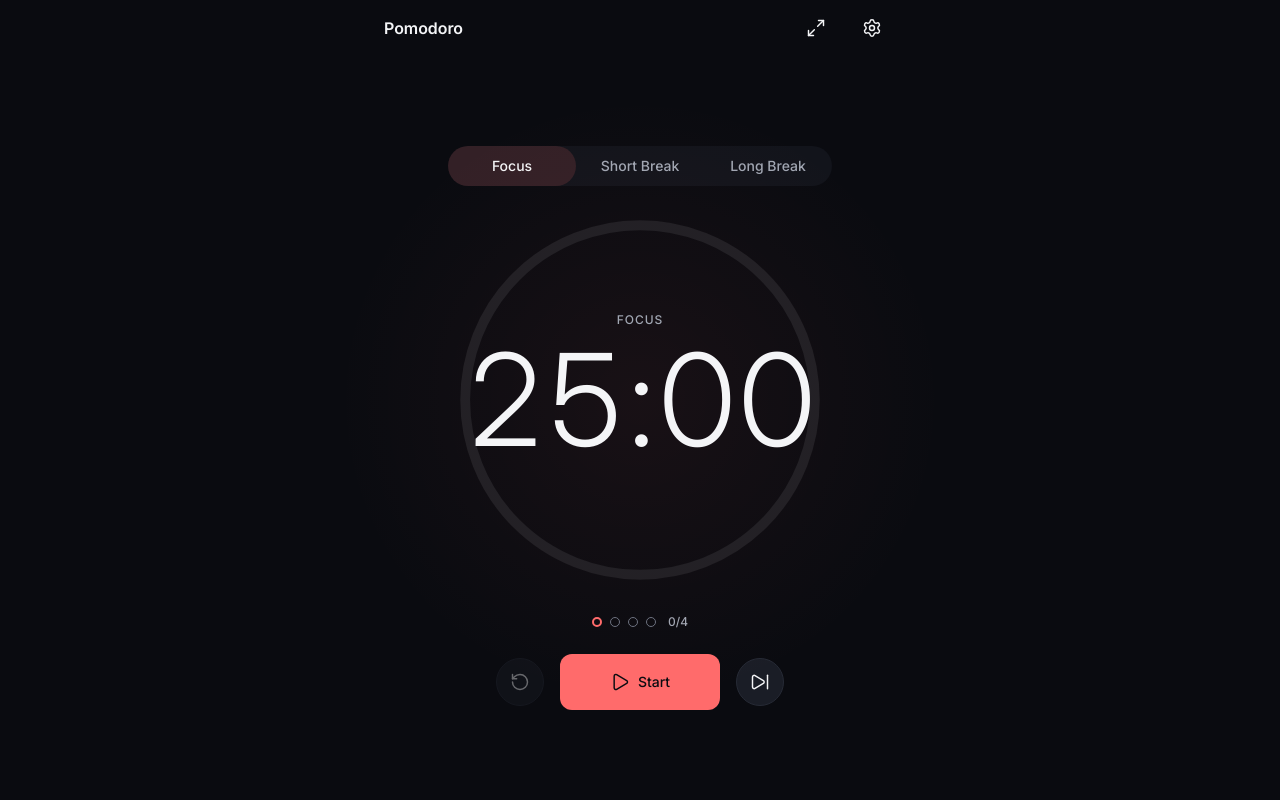
Scenario: polish: title and live region (POMO-E12, POMO-AC24) › announces "Settings saved" after Save, once the dialog is gone
Step 1. Click the button named "Open settings" → (872,28), box [848,4,896,52]
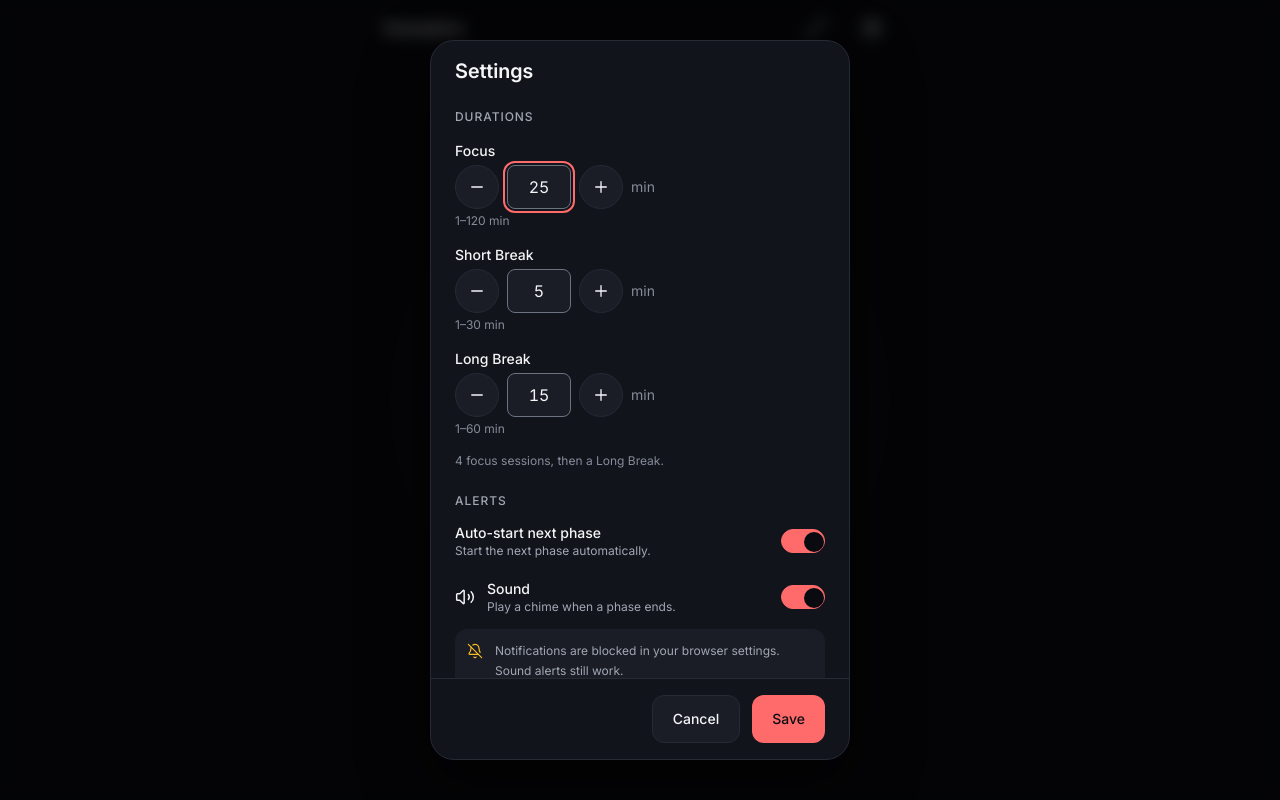
Step 2. Click the button "Save" → (789,719), box [752,695,825,743]
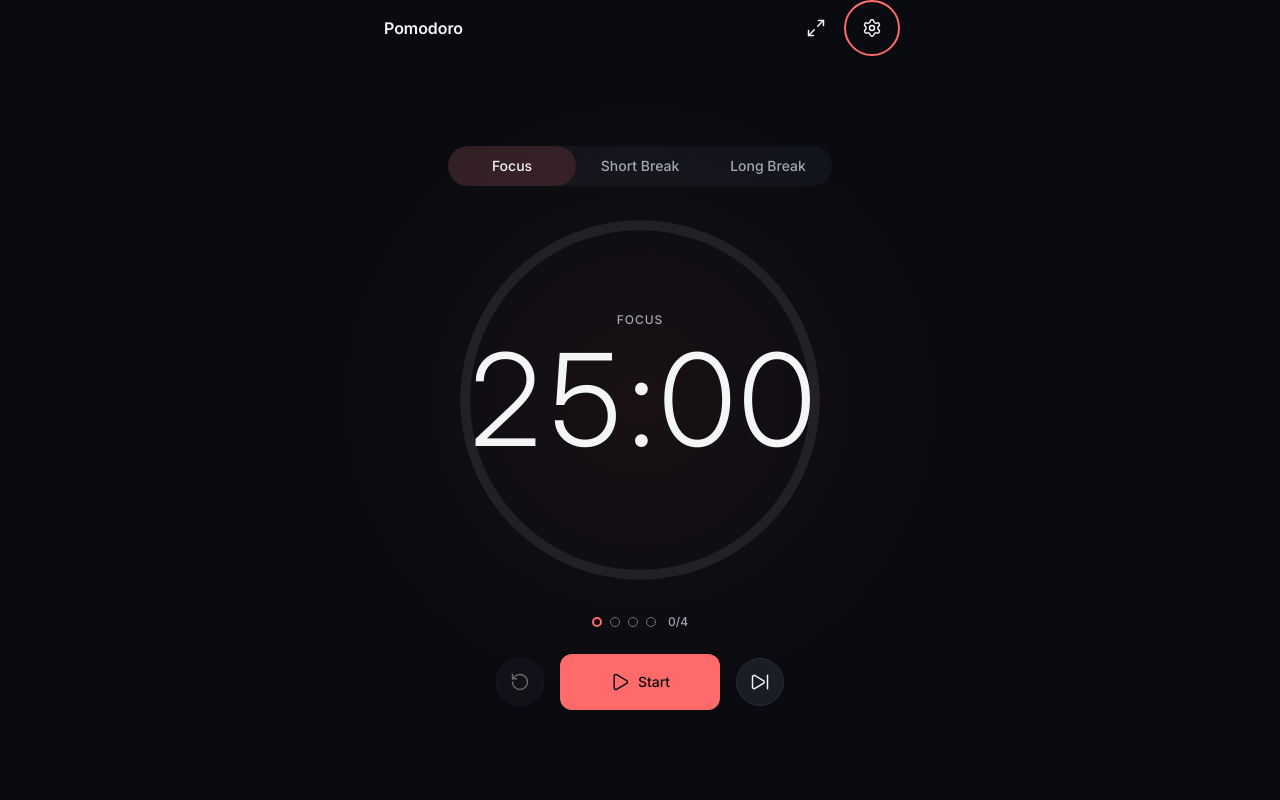
Expected: the dialog is gone
